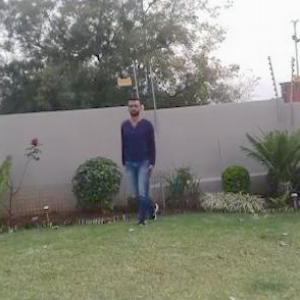follow: (120, 97, 164, 234)
